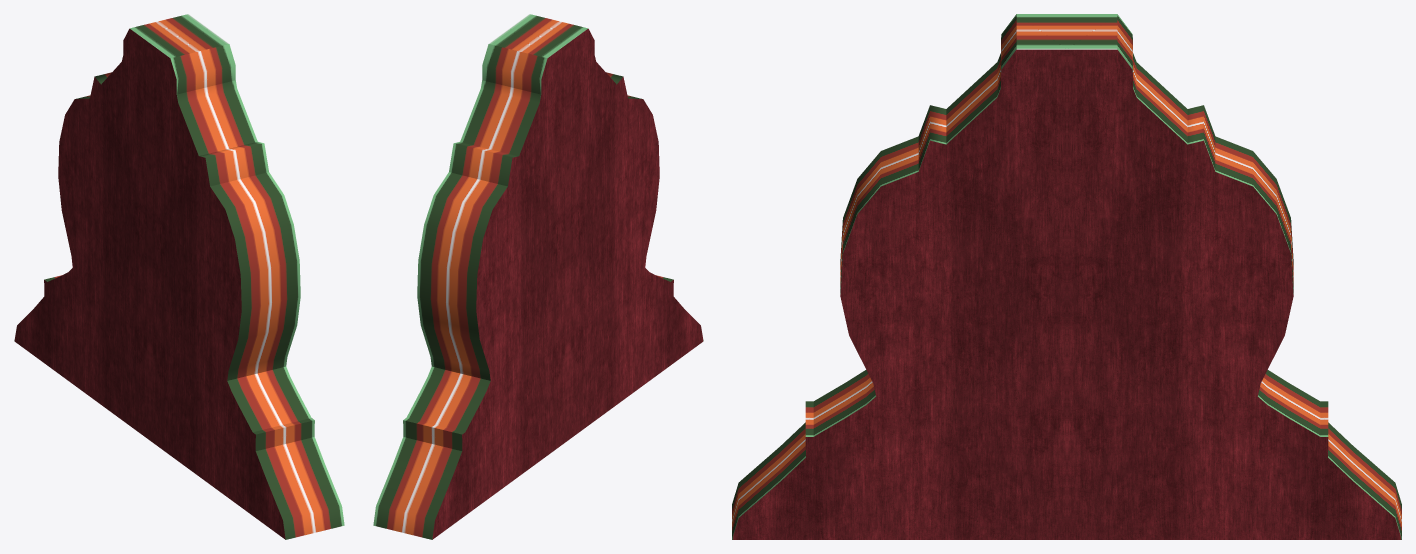
Rendered from SM_R_DancheongSupport_2.fbx.
3 renders of one model, left to right at view 1: azimuth 30°, elevation 25°; view 2: azimuth 150°, elevation 25°; view 3: azimuth 270°, elevation 25°, orthographic. The views are drawn at different scales.
Parts seen in each view (by area): view 1: SM_R_DancheongSupport_2; view 2: SM_R_DancheongSupport_2; view 3: SM_R_DancheongSupport_2.
Part boxes in pixels (<box>): SM_R_DancheongSupport_2: <box>14,14,344,539</box>; SM_R_DancheongSupport_2: <box>373,14,703,539</box>; SM_R_DancheongSupport_2: <box>732,14,1401,539</box>.
Bounding box in the file's own units: 14.34 × 114 × 92.26.
2 materials, 2 textured.
